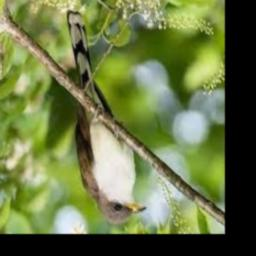Cuckoo: (66, 11, 146, 224)
